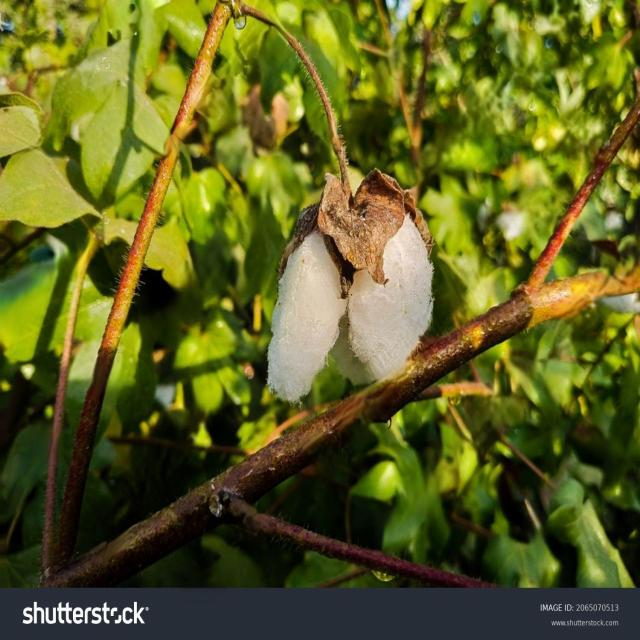Leaf: (250, 165, 442, 420)
